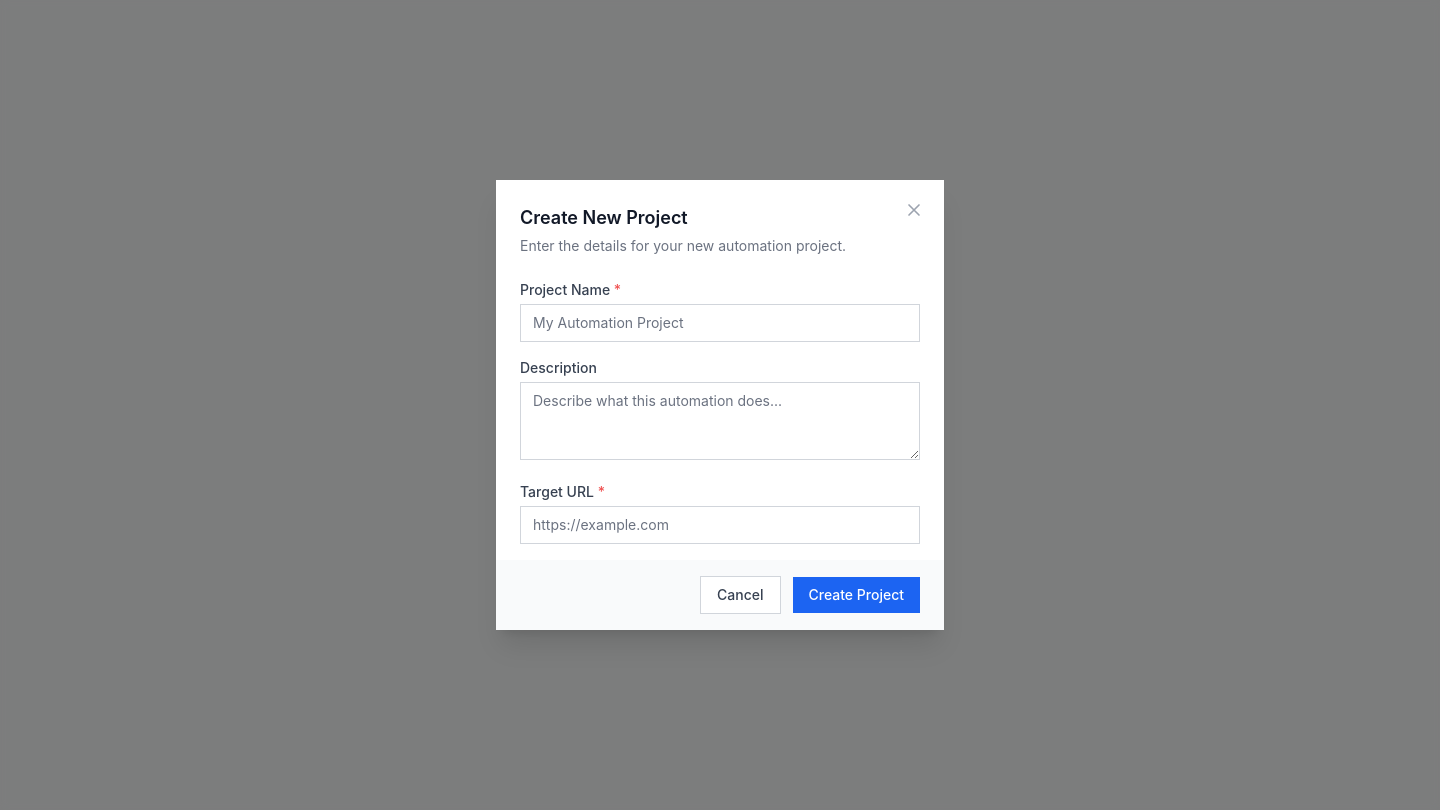
Test: CreateProjectDialog › should validate required fields
This screenshot has width=1440, height=810.
Step 1. Click the button with test id "create-project-submit" → coordinates (856, 595), box [792,577,920,613]
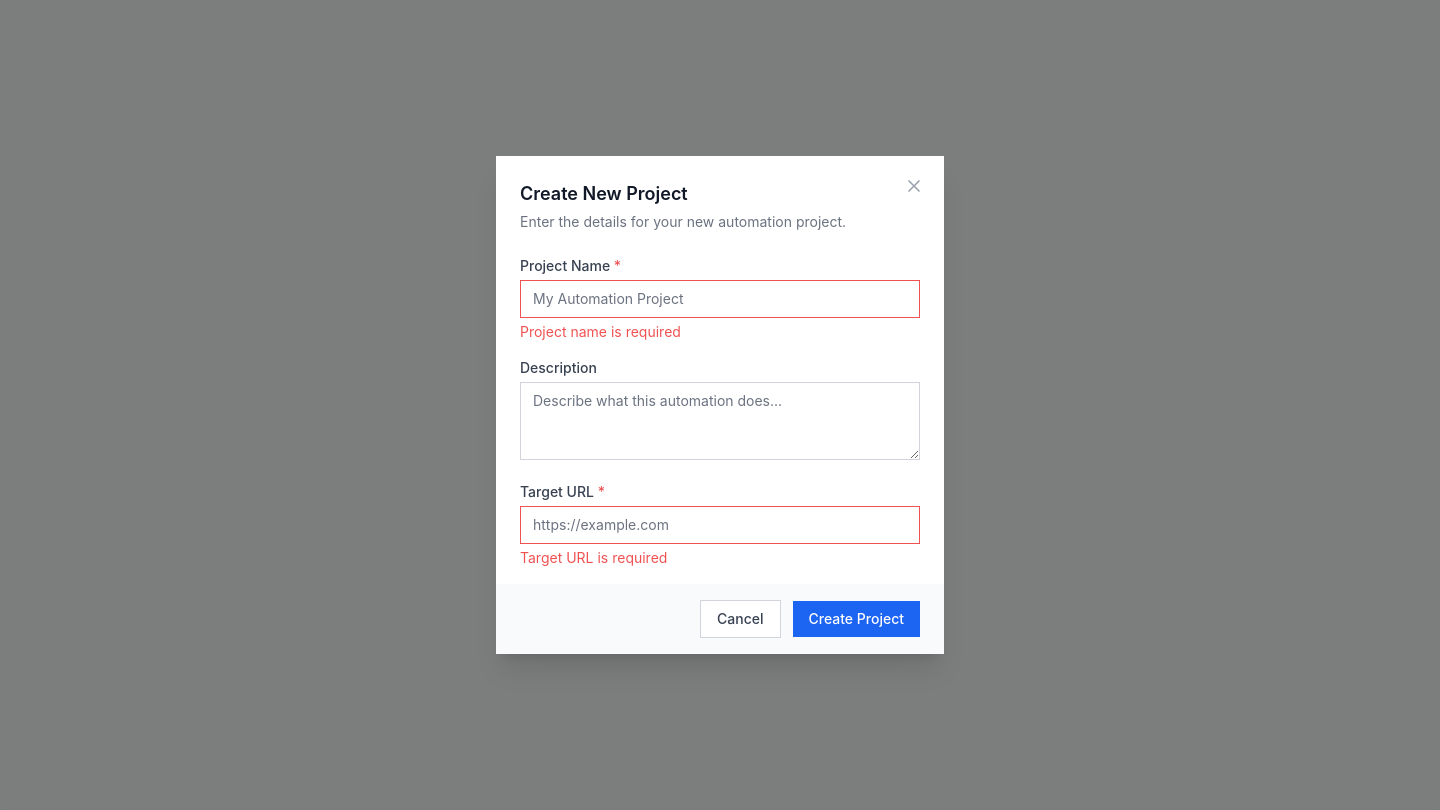
Expected: the text "Project name is required" is shown, [520,323,681,340]
Expected: the text "Target URL is required" is shown, [520,549,667,566]
